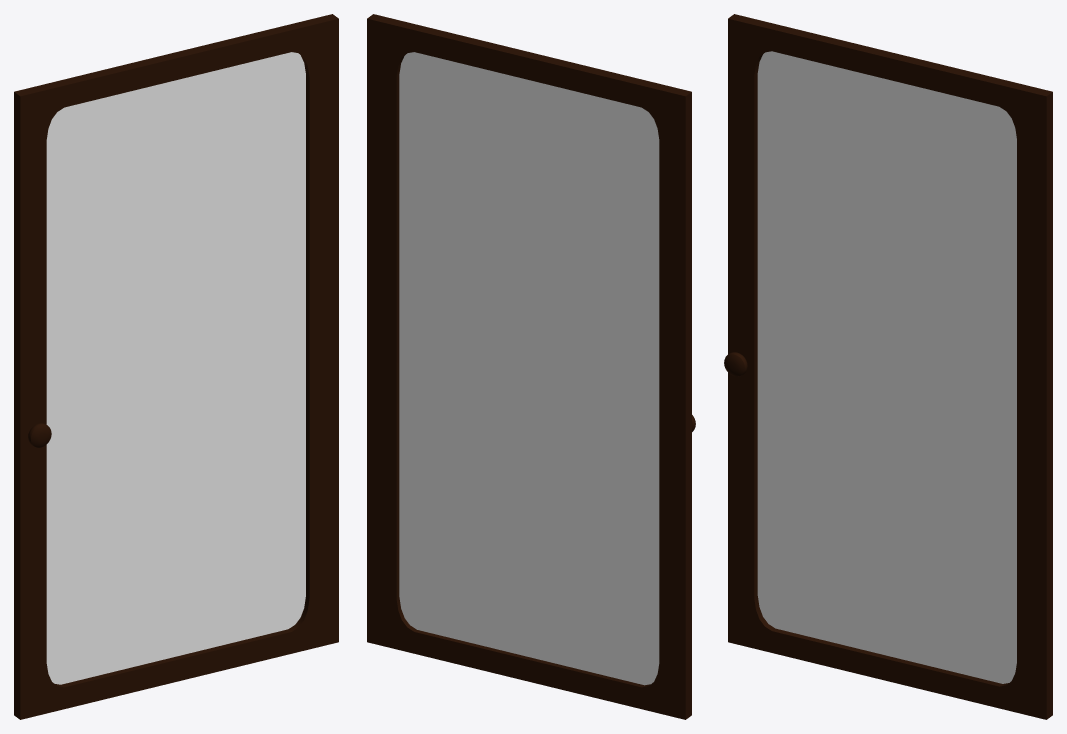
File: cabinet_glass_door_right.FBX
3 renders of one model, left to right at view 1: azimuth 30°, elevation 25°; view 2: azimuth 150°, elevation 25°; view 3: azimuth 330°, elevation 25°, orthographic.
Parts seen in each view (by area): view 1: cabinet_glass_door_right; view 2: cabinet_glass_door_right; view 3: cabinet_glass_door_right.
Part boxes in pixels (x1,y1,x2,y2): cabinet_glass_door_right: (14,14,338,719); cabinet_glass_door_right: (367,14,695,719); cabinet_glass_door_right: (724,14,1052,719).
Size of the model in its own units: 34.43 by 64.4 by 2.81.
